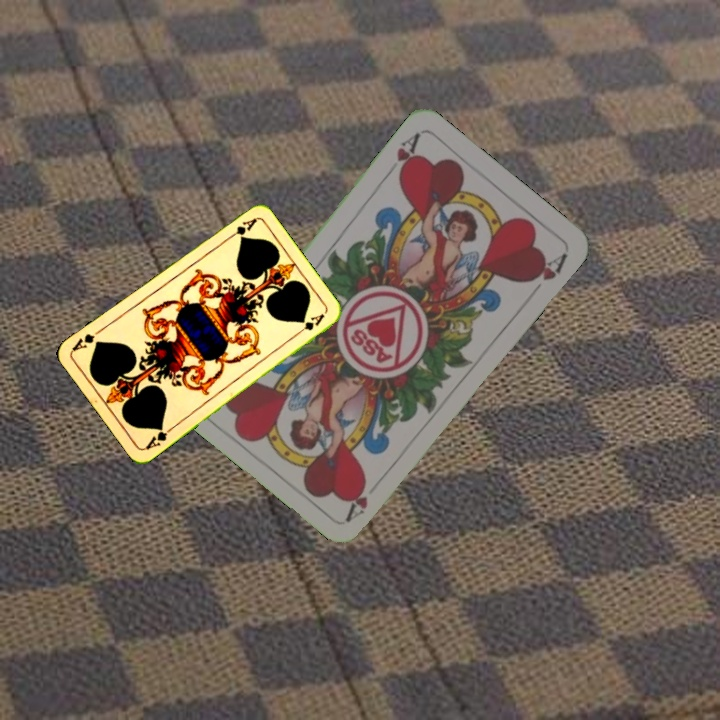GA: (141, 422, 176, 453), (223, 214, 259, 243)
HA: (382, 128, 423, 182), (342, 476, 371, 523)
